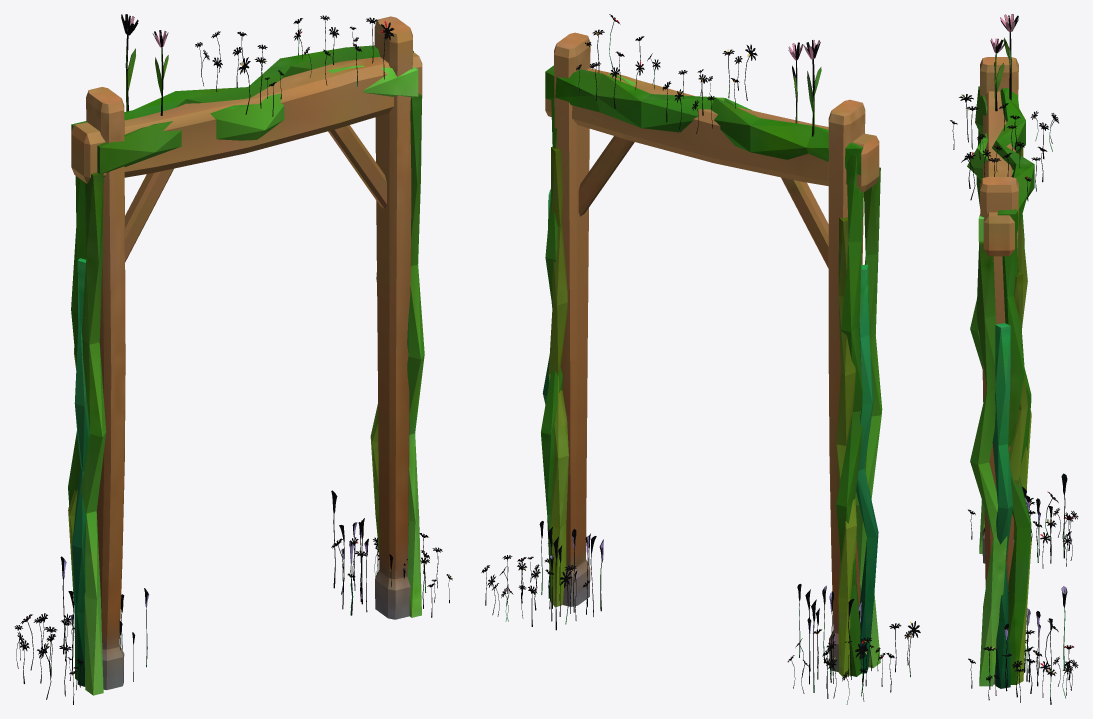
The model's file is arch_vines.glb.
3 renders of one model, left to right at view 1: azimuth 30°, elevation 25°; view 2: azimuth 150°, elevation 25°; view 3: azimuth 270°, elevation 25°, orthographic. The views are drawn at different scales.
Visible parts, largest first — view 1: arch_vines; view 2: arch_vines; view 3: arch_vines.
Part boxes in pixels (x1=…): arch_vines: x1=14, y1=14, x2=452, y2=704; arch_vines: x1=481, y1=14, x2=920, y2=704; arch_vines: x1=950, y1=14, x2=1078, y2=704.
Bounding box in the file's own units: 1.45 × 2.14 × 0.45.
1 material, 1 textured.
